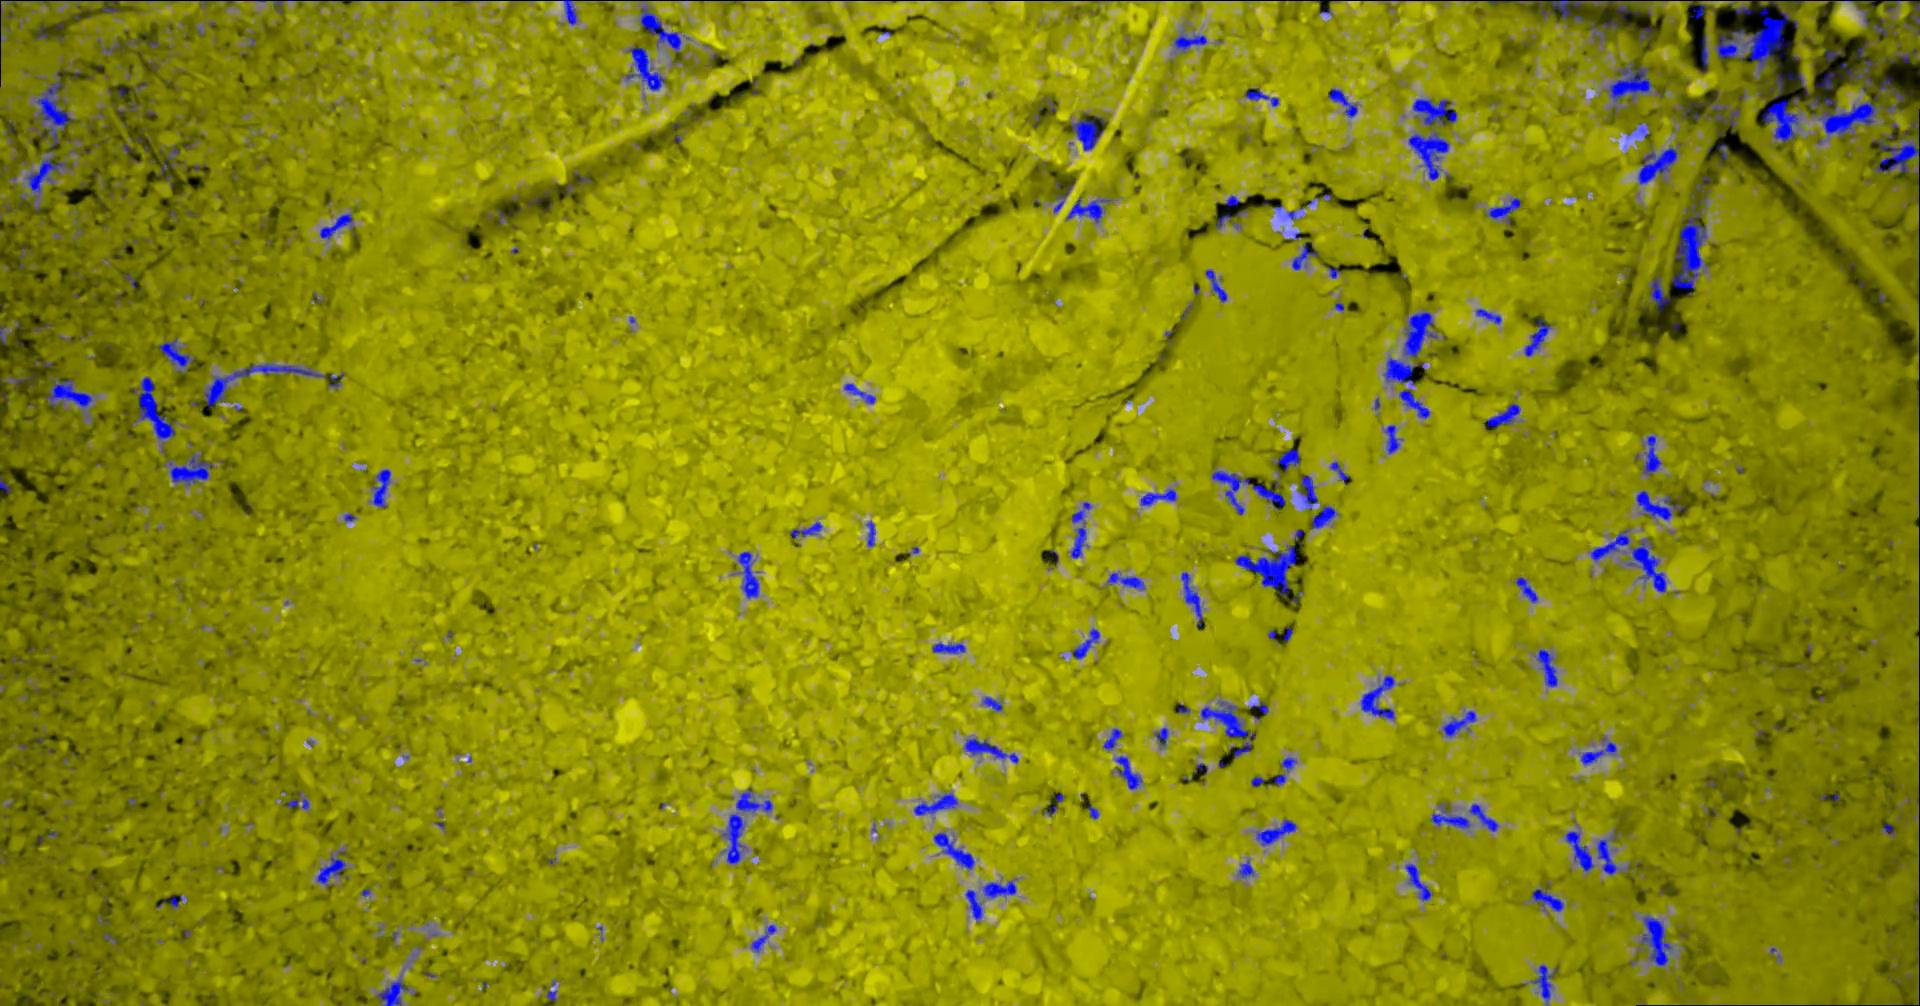ant: (1203, 701, 1257, 756), (1873, 112, 1920, 171), (136, 376, 177, 439), (1628, 537, 1669, 592), (1410, 130, 1451, 179), (1841, 39, 1881, 91), (643, 6, 683, 53), (1609, 61, 1655, 102), (627, 44, 667, 90), (1213, 470, 1252, 514), (1404, 311, 1439, 357), (1642, 915, 1672, 965), (935, 832, 977, 869), (1639, 146, 1679, 184), (1637, 490, 1688, 520), (1363, 674, 1396, 719), (965, 737, 1020, 763), (46, 377, 93, 408), (171, 453, 215, 485), (159, 337, 197, 371), (1592, 528, 1630, 561), (1183, 572, 1205, 627), (723, 813, 747, 862), (1068, 196, 1112, 222), (1415, 98, 1458, 124), (1567, 831, 1595, 871), (1073, 116, 1106, 150), (1385, 357, 1426, 384), (1533, 964, 1559, 1005), (1406, 862, 1434, 901), (1534, 0, 1586, 20), (1526, 315, 1552, 356), (1257, 819, 1298, 845), (1594, 0, 1641, 22), (739, 551, 761, 598), (317, 854, 348, 887), (916, 793, 959, 815), (1255, 479, 1286, 509), (1487, 197, 1523, 224), (1582, 737, 1618, 763), (1431, 805, 1472, 828), (1597, 835, 1620, 875), (1399, 389, 1431, 418), (1444, 710, 1478, 737), (1116, 754, 1143, 789), (1710, 102, 1741, 131), (737, 788, 773, 812), (1488, 401, 1521, 428), (321, 213, 356, 239), (1537, 649, 1559, 687), (1330, 88, 1359, 117), (1073, 627, 1101, 658), (377, 979, 410, 1005), (1470, 803, 1500, 831), (1651, 276, 1672, 311), (1865, 10, 1890, 42), (1533, 887, 1564, 911), (1644, 434, 1663, 474), (373, 467, 392, 507), (1293, 243, 1321, 269), (159, 145, 182, 177), (752, 923, 777, 951), (1302, 475, 1321, 511), (1590, 17, 1619, 39), (1142, 488, 1178, 506), (1109, 572, 1145, 589), (1246, 86, 1280, 105), (984, 879, 1018, 898), (1208, 269, 1228, 301), (844, 384, 877, 403), (1275, 448, 1302, 471), (1055, 183, 1076, 212), (1072, 522, 1088, 558), (1313, 506, 1338, 528), (1517, 575, 1539, 602), (1385, 424, 1404, 453), (1175, 34, 1208, 51), (105, 36, 138, 52), (968, 889, 984, 920), (1331, 461, 1352, 484), (557, 0, 578, 24), (792, 522, 824, 537), (118, 81, 149, 97), (1477, 307, 1503, 324), (1103, 728, 1124, 749), (1073, 500, 1092, 523), (1817, 71, 1837, 91), (1681, 102, 1704, 119), (13, 373, 39, 389), (935, 641, 968, 653), (284, 796, 310, 809), (1690, 0, 1708, 18), (1239, 859, 1256, 878), (984, 696, 1004, 711), (1896, 50, 1917, 64), (1702, 33, 1709, 71), (1156, 727, 1170, 747), (1826, 48, 1845, 62), (1641, 25, 1655, 43), (1217, 213, 1234, 227), (1251, 700, 1269, 714), (1910, 0, 1920, 23), (869, 521, 877, 546), (1719, 144, 1730, 165), (1283, 757, 1298, 771), (103, 0, 121, 11), (165, 895, 183, 907), (1736, 5, 1755, 15), (37, 25, 50, 39), (1225, 194, 1241, 206), (1275, 774, 1288, 785), (274, 0, 284, 14), (1252, 776, 1266, 786), (1919, 226, 1920, 278)
